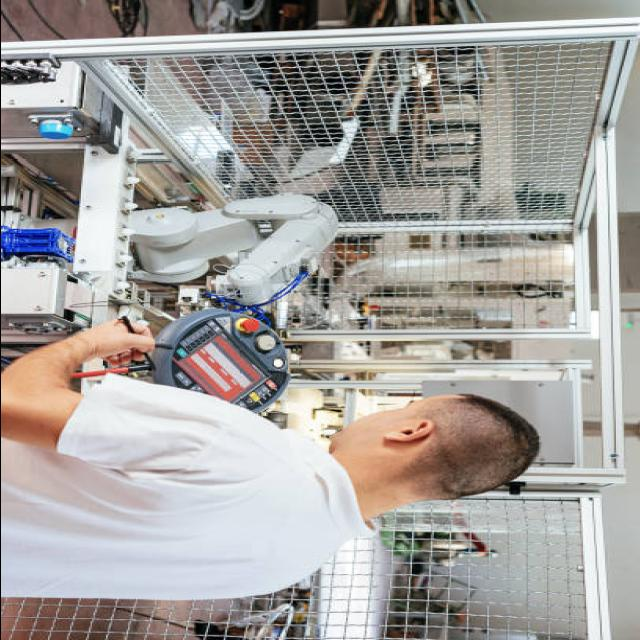Robotic-arm: (123, 193, 344, 306)
